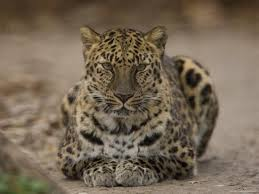amur_leopard: (40, 17, 232, 187)
